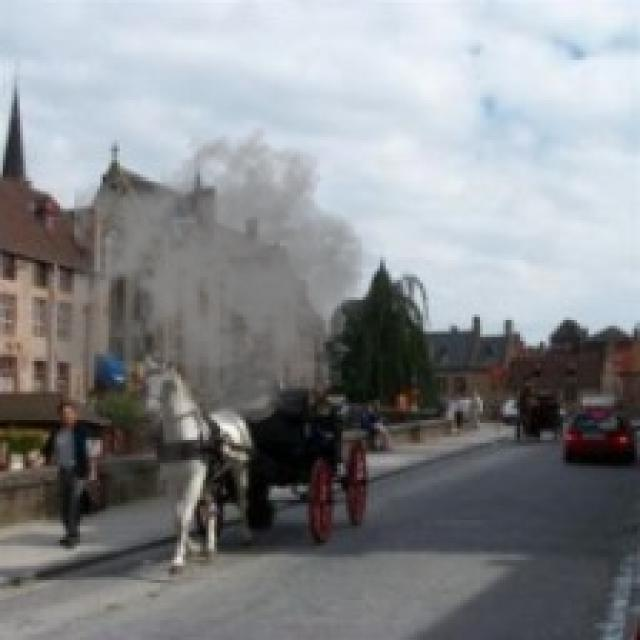Smoke: (31, 126, 388, 532)
